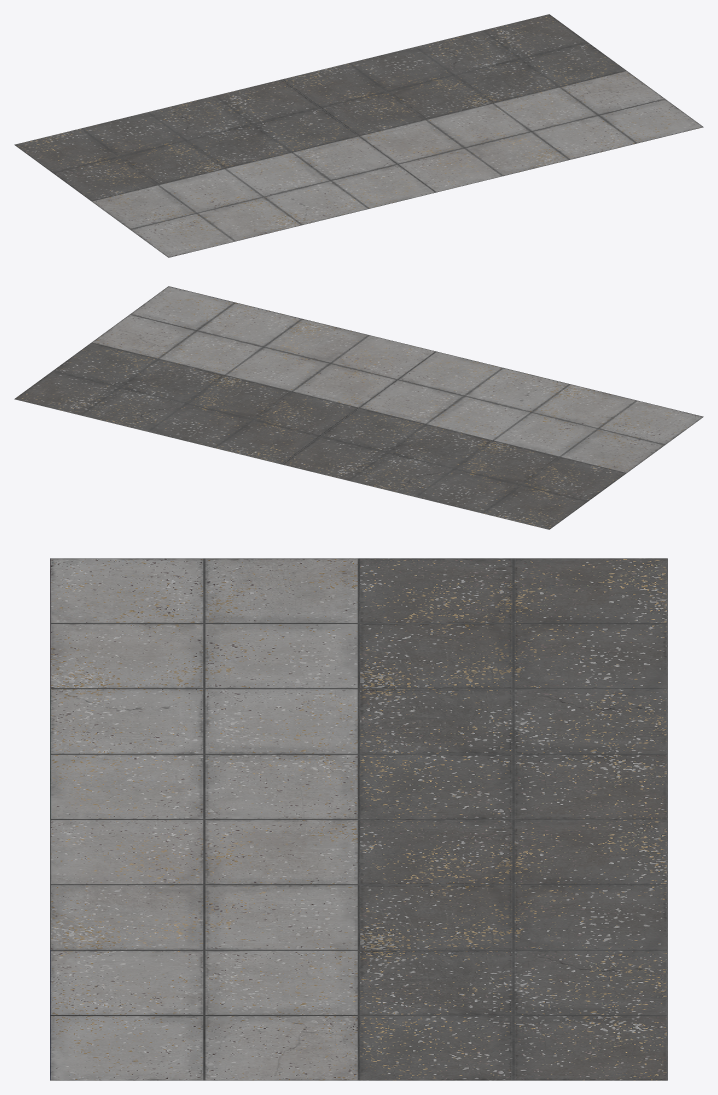
The model's file is CP_Floor_Tiles_2x4m_02.fbx.
3 renders of one model, top to bottom at view 1: azimuth 30°, elevation 25°; view 2: azimuth 150°, elevation 25°; view 3: azimuth 270°, elevation 25°, orthographic. The views are drawn at different scales.
Visible parts, largest first — view 1: CP_Floor_Tiles_2x4m_02; view 2: CP_Floor_Tiles_2x4m_02; view 3: CP_Floor_Tiles_2x4m_02.
Part boxes in pixels (x1,y1,x2,y2): CP_Floor_Tiles_2x4m_02: (14,14,703,257); CP_Floor_Tiles_2x4m_02: (14,286,703,529); CP_Floor_Tiles_2x4m_02: (50,558,667,1080).
Bounding box in the file's own units: 400 × 0 × 200.
